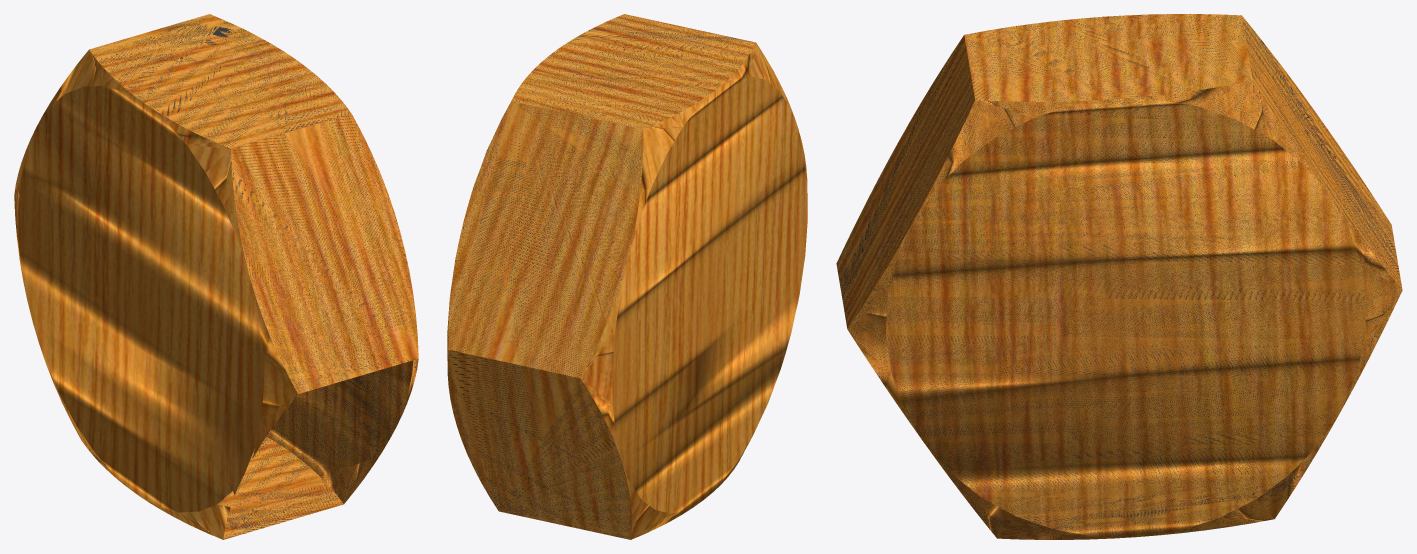
Rendered from original-3.obj.
3 views of the same model, side by side, from view 1: azimuth 30°, elevation 25°; view 2: azimuth 150°, elevation 25°; view 3: azimuth 270°, elevation 25° (orthographic). The views are drawn at different scales.
Parts seen in each view (by area): view 1: Group2/mesh2/mesh2-geometry#mesh2-geometry; view 2: Group2/mesh2/mesh2-geometry#mesh2-geometry; view 3: Group2/mesh2/mesh2-geometry#mesh2-geometry.
Part boxes in pixels (box(x1,y1,x2,y2)): Group2/mesh2/mesh2-geometry#mesh2-geometry: box(14, 14, 418, 539); Group2/mesh2/mesh2-geometry#mesh2-geometry: box(447, 14, 807, 539); Group2/mesh2/mesh2-geometry#mesh2-geometry: box(836, 14, 1402, 539).
Bounding box in the file's own units: 0.0255 × 0.0546 × 0.0623.
